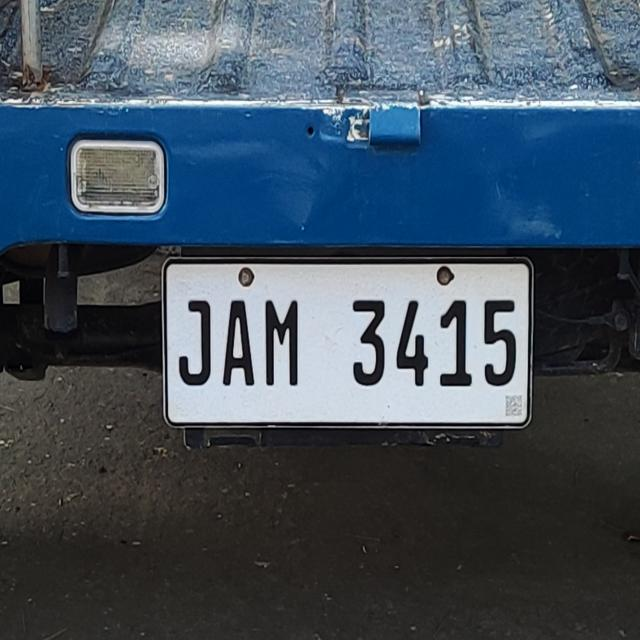LicensePlate: (155, 250, 541, 435)
